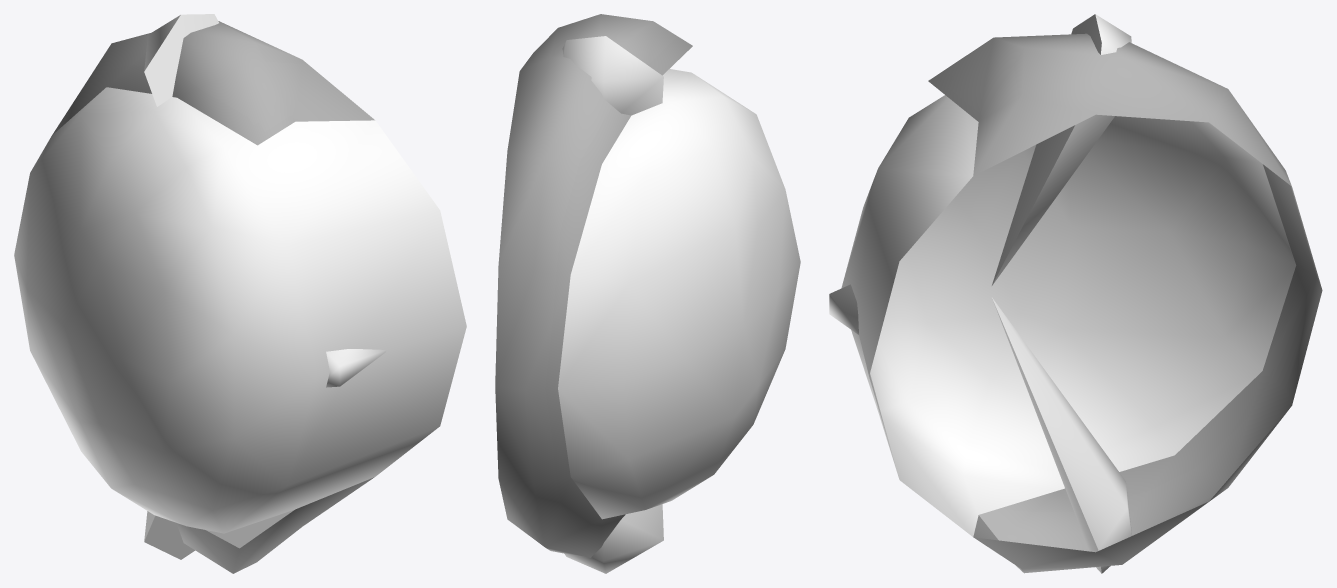
The model's file is girl06b.dae.
3 views of the same model, side by side, from view 1: azimuth 30°, elevation 25°; view 2: azimuth 150°, elevation 25°; view 3: azimuth 270°, elevation 25° (orthographic). The views are drawn at different scales.
Parts seen in each view (by area): view 1: girl06b; view 2: girl06b; view 3: girl06b.
Boxes of the visible parts, x1,y1,x2,y2 form: girl06b: (14,14,466,573); girl06b: (495,14,800,573); girl06b: (829,14,1322,573).
Size of the model in its own units: 15.5 by 26.71 by 21.59.
Materials: 3 (1 with a texture image).
